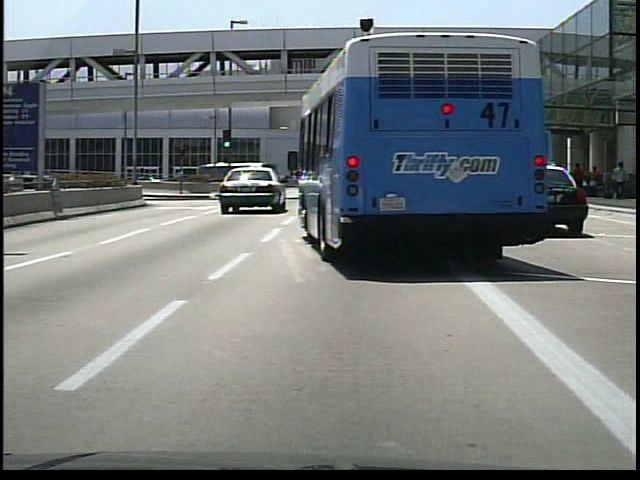person: (609, 164, 628, 201), (571, 162, 586, 197), (589, 165, 602, 199)
